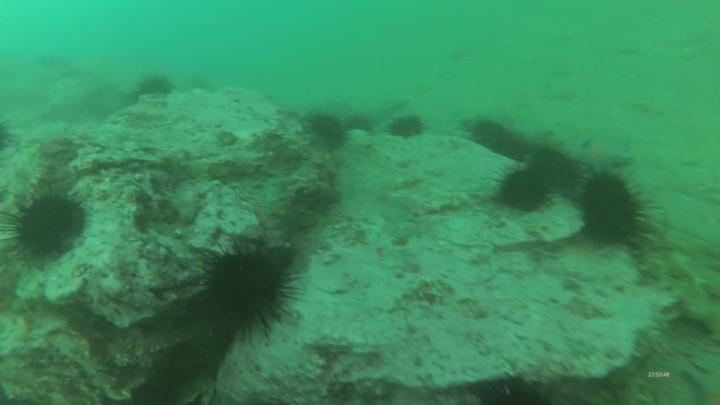echinus: (200, 255, 284, 332), (12, 197, 84, 257), (584, 170, 633, 245), (501, 169, 546, 210), (531, 148, 577, 186), (475, 122, 515, 152), (304, 114, 341, 144), (132, 78, 170, 94), (390, 117, 418, 138)
holothurian: (640, 237, 720, 334)
starfish: (583, 133, 632, 173)
